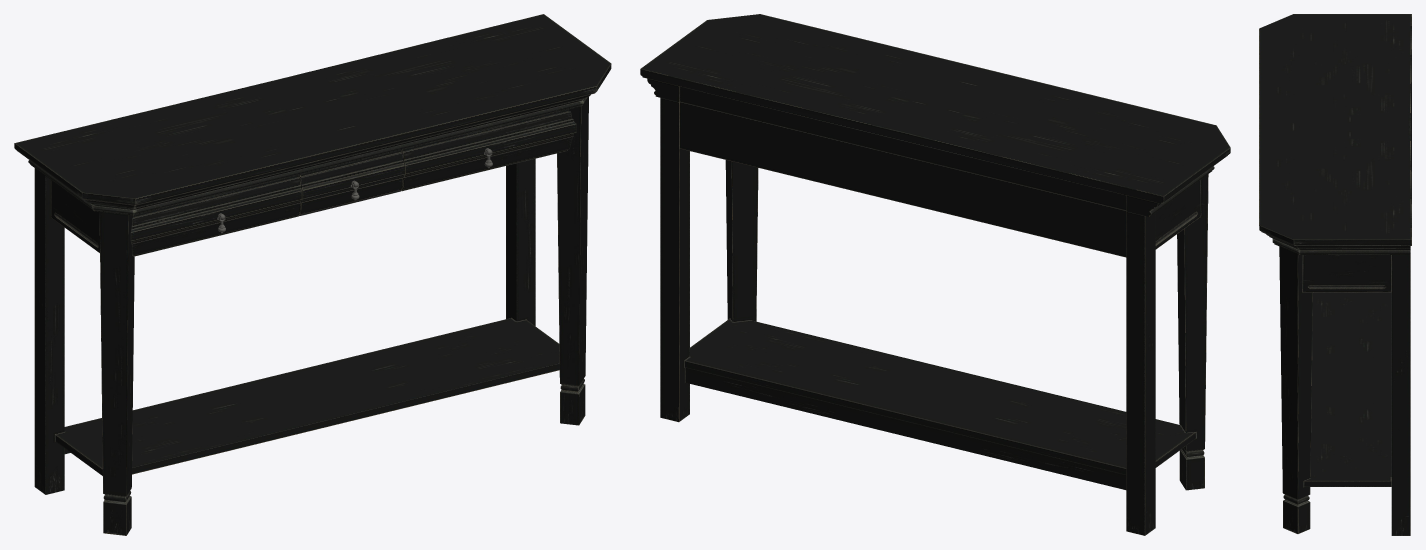
The model's file is example93.glb.
3 views of the same model, side by side, from view 1: azimuth 30°, elevation 25°; view 2: azimuth 150°, elevation 25°; view 3: azimuth 270°, elevation 25° (orthographic). The views are drawn at different scales.
Parts seen in each view (by area): view 1: Buffer Layer; view 2: Buffer Layer; view 3: Buffer Layer.
Part boxes in pixels (<box>): Buffer Layer: <box>14,14,611,535</box>; Buffer Layer: <box>640,14,1230,535</box>; Buffer Layer: <box>1259,14,1411,535</box>.
Size of the model in its own units: 1.2 by 0.7543 by 0.3429.
2 materials, 2 textured.
